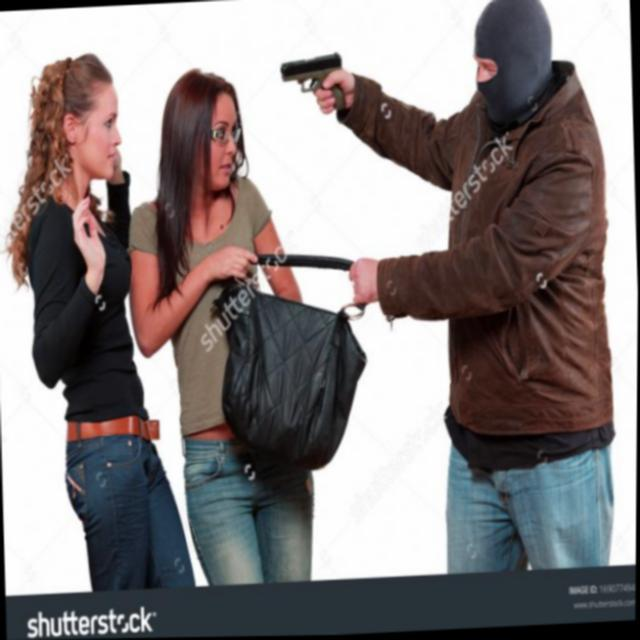weapon: (279, 52, 346, 114)
